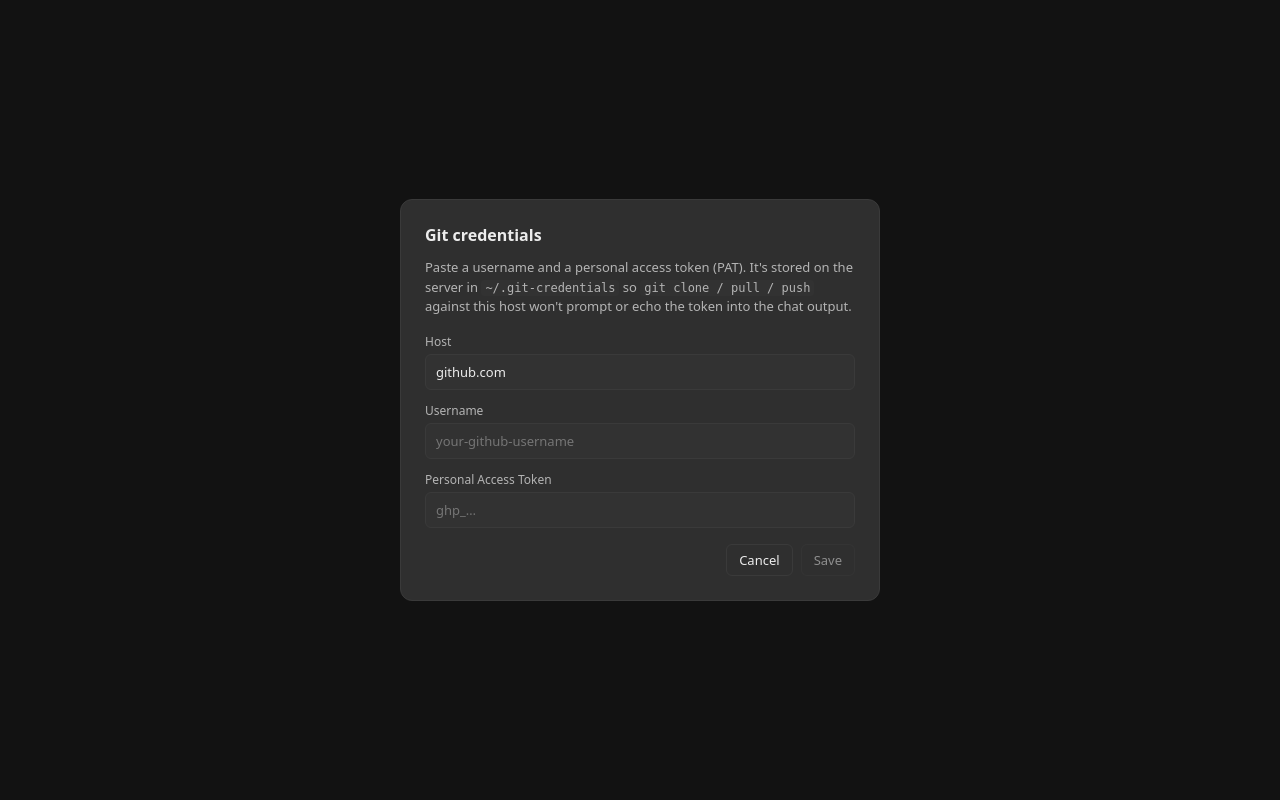
Test: GitCredentialsDialog › shows error message when save fails
Type "alice" into the field labelled "Username" at (640, 441), box [425,423,855,459]
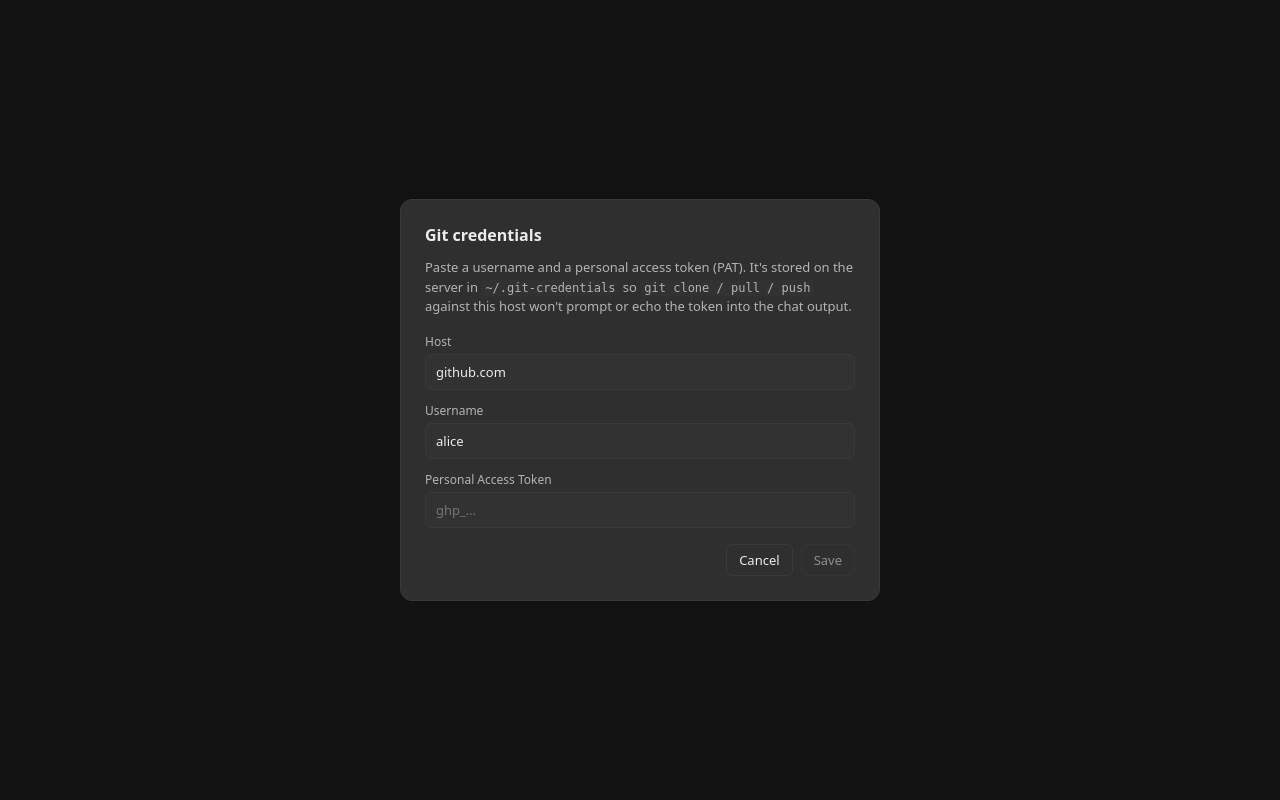
Type "tok" into the password field labelled "Personal Access Token" at (640, 510), box [425,492,855,528]
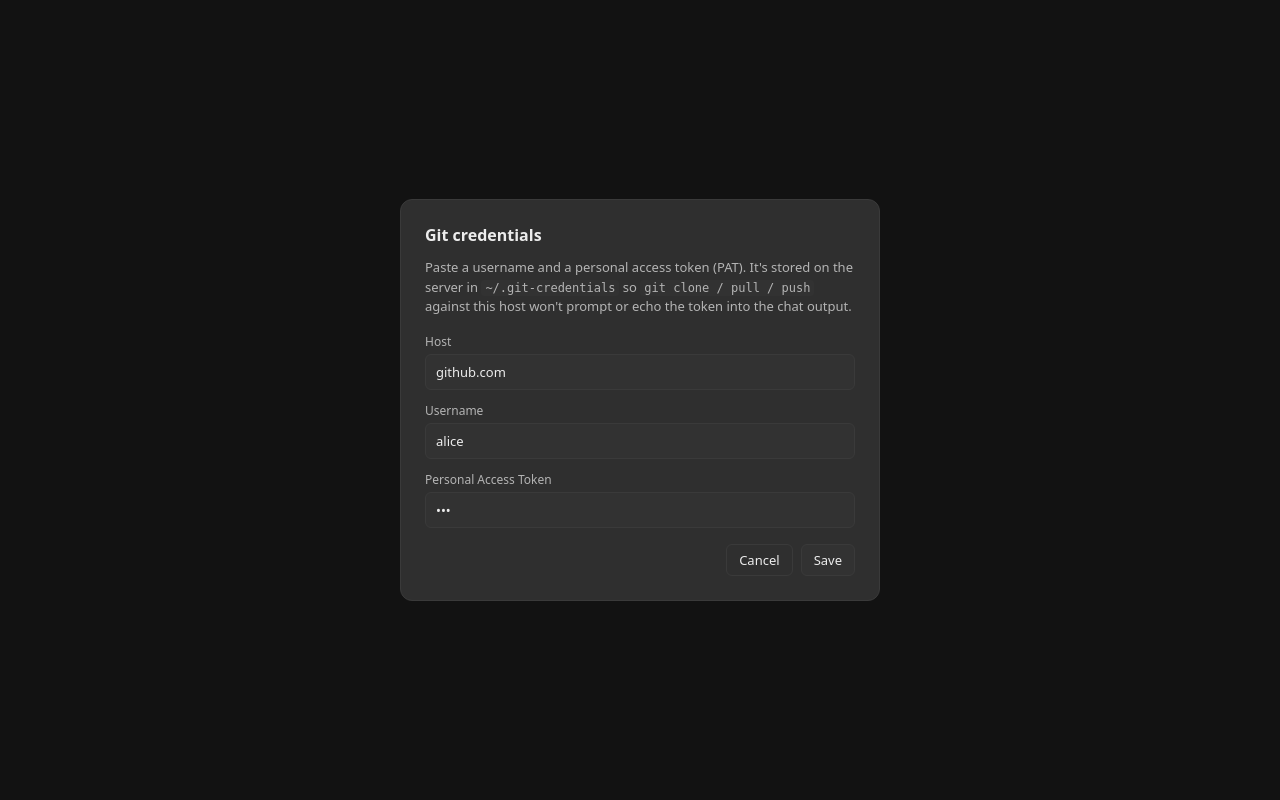
Click the button "Save" at (828, 560), box [801,544,855,576]
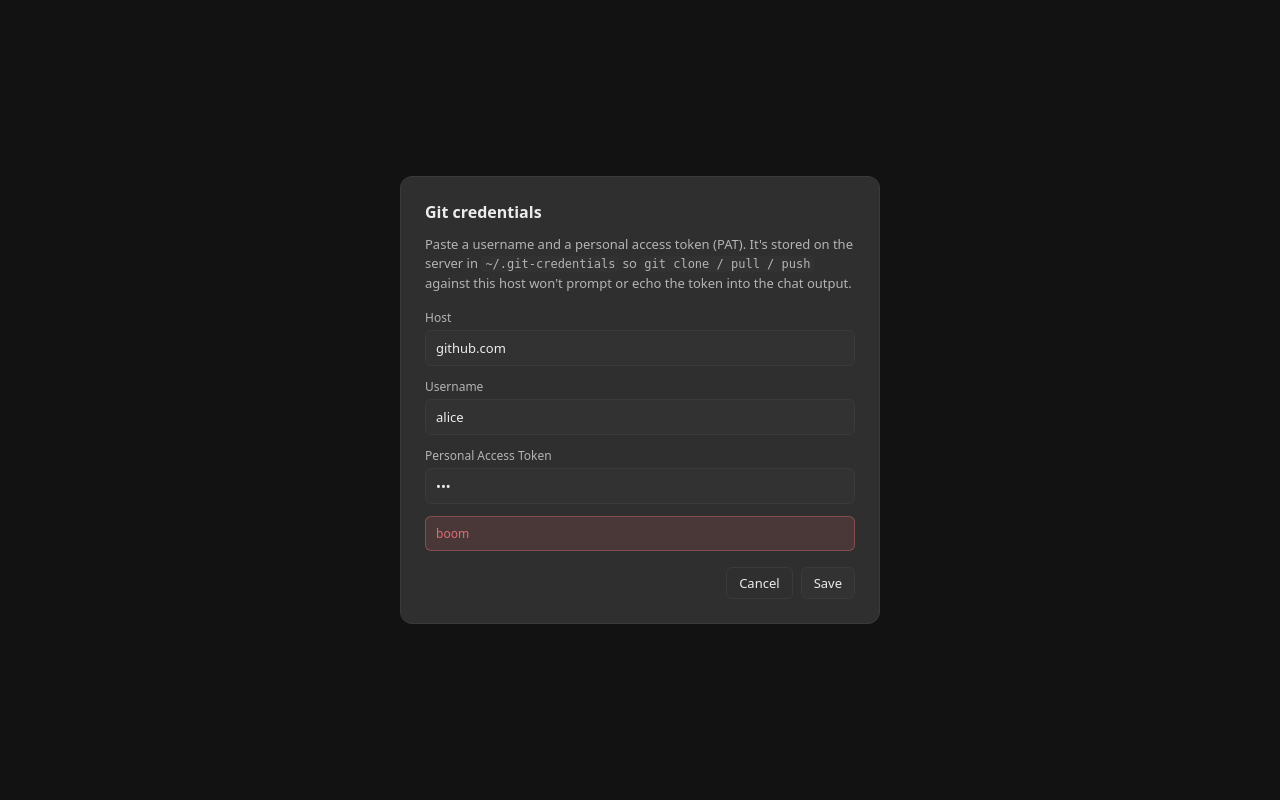
Check: the text "boom" is shown, box [425,516,855,551]
